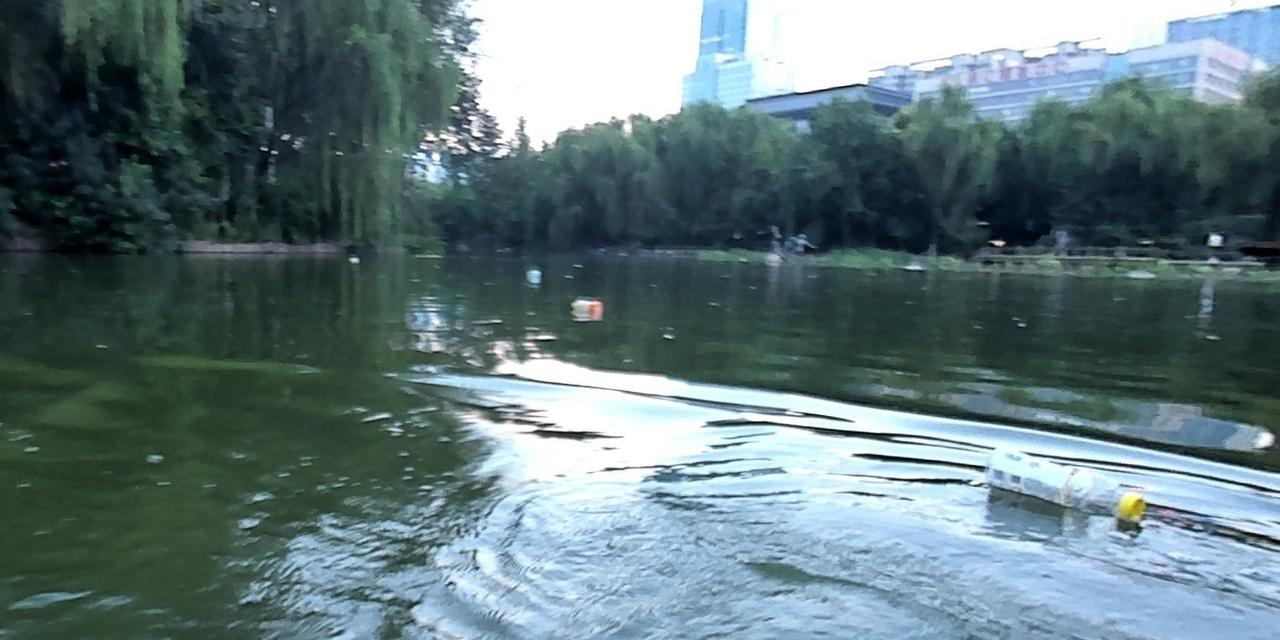bottle: (984, 441, 1141, 522), (570, 298, 603, 314), (526, 268, 538, 280)
